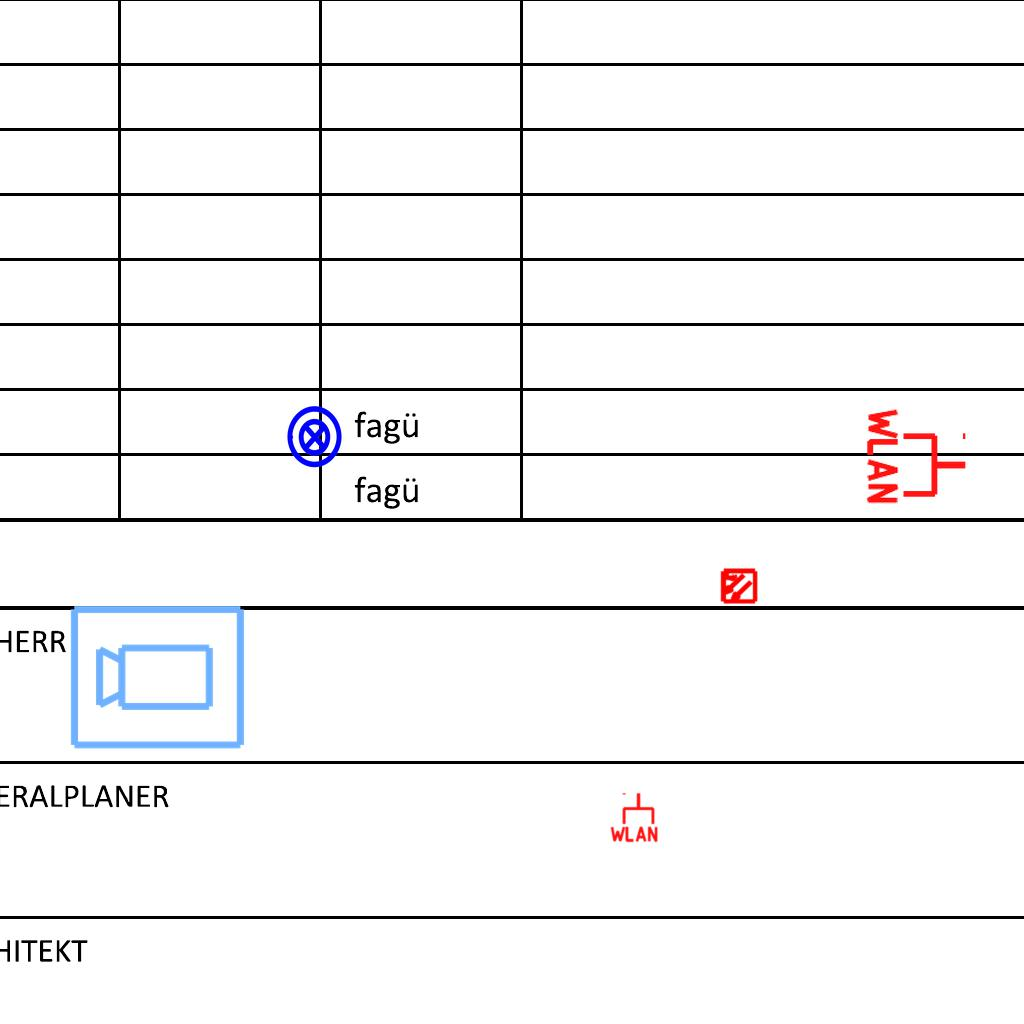KFO_Kamera_mit_Festobjektiv: (67, 599, 249, 753)
OT_Multisensormelder_(Kombination_RMO_WMD): (710, 558, 766, 614)
Taster_beleuchtet: (282, 404, 348, 470)
WLAN: (865, 404, 970, 508), (608, 791, 660, 843)
